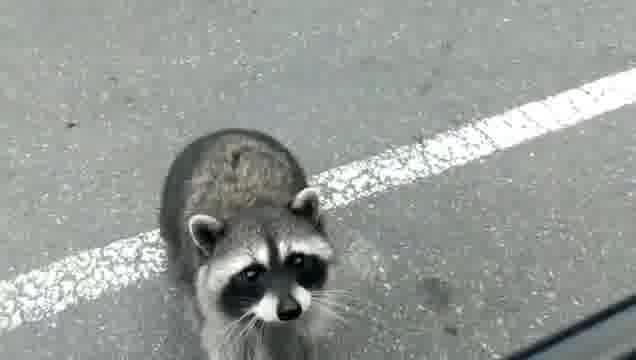raccoon: (153, 122, 362, 360)
